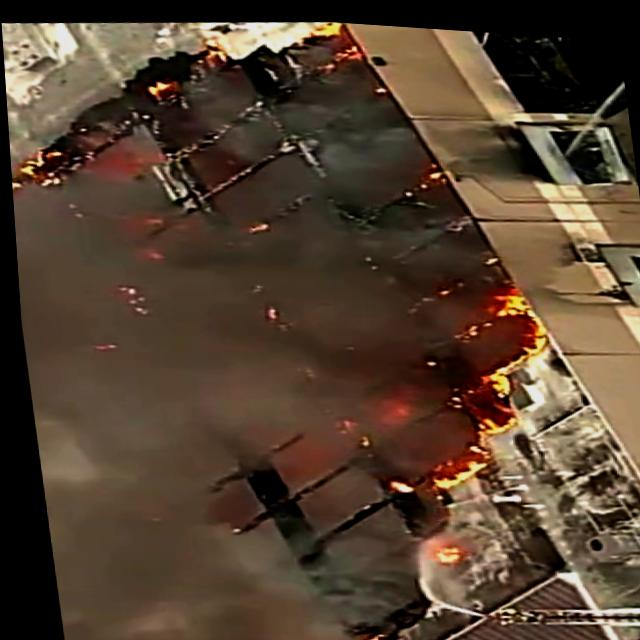smoke: (14, 261, 319, 578)
